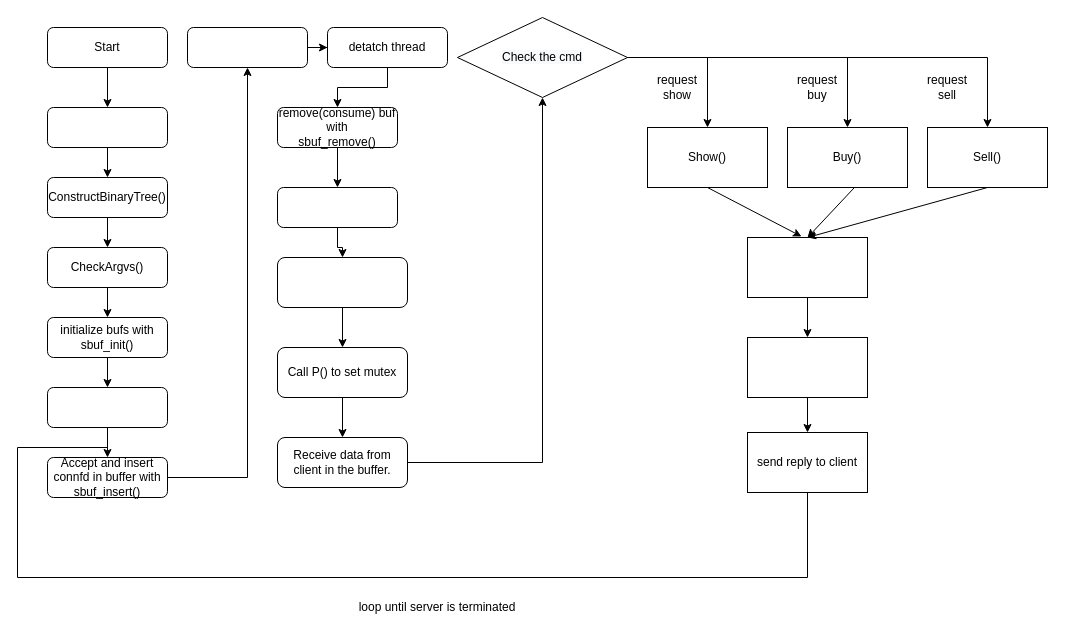
This 1065x635 diagram has some shape labels left out. The shapes that lost their labels are listed below. From the top down, each one's centre as x and y in pixels, then its label:
point (247, 47): thread()
point (107, 127): Read Stock.txt
point (337, 207): call echo_cnt() for 'writers'
point (342, 282): Pthread_once(), call Rio to read from client
point (807, 267): Update stock data
point (807, 367): Unlock the mutex with V()
point (107, 407): Create worker threads with Pthread()
